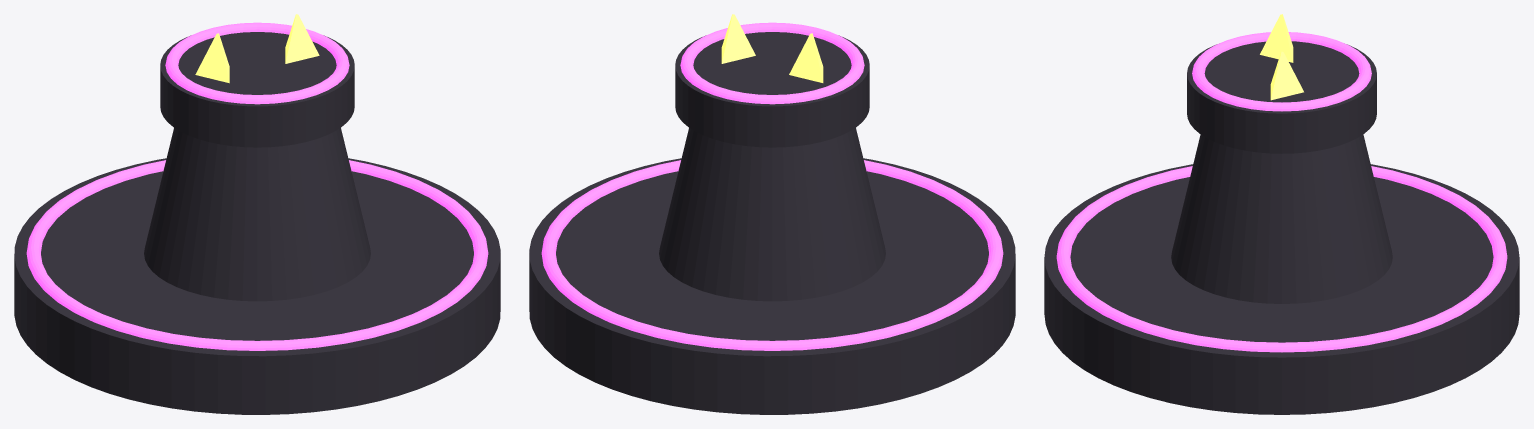
File: rebatedor_kiara_p1.glb
3 views of the same model, side by side, from view 1: azimuth 30°, elevation 25°; view 2: azimuth 150°, elevation 25°; view 3: azimuth 270°, elevation 25° (orthographic). The views are drawn at different scales.
Visible parts, largest first — view 1: rebatedor_kiara_p1_Base, rebatedor_kiara_p1_Handle, rebatedor_kiara_p1_GripCap, rebatedor_kiara_p1_BaseHalo, rebatedor_kiara_p1_GripRing, rebatedor_kiara_p1_Ear_L, rebatedor_kiara_p1_Ear_R; view 2: rebatedor_kiara_p1_Base, rebatedor_kiara_p1_Handle, rebatedor_kiara_p1_GripCap, rebatedor_kiara_p1_BaseHalo, rebatedor_kiara_p1_GripRing, rebatedor_kiara_p1_Ear_L, rebatedor_kiara_p1_Ear_R; view 3: rebatedor_kiara_p1_Base, rebatedor_kiara_p1_Handle, rebatedor_kiara_p1_GripCap, rebatedor_kiara_p1_BaseHalo, rebatedor_kiara_p1_GripRing, rebatedor_kiara_p1_Ear_R, rebatedor_kiara_p1_Ear_L.
Part boxes in pixels (<box>): rebatedor_kiara_p1_Base: <box>14,158,500,414</box>; rebatedor_kiara_p1_Handle: <box>144,128,370,301</box>; rebatedor_kiara_p1_GripCap: <box>160,32,354,147</box>; rebatedor_kiara_p1_BaseHalo: <box>26,160,488,350</box>; rebatedor_kiara_p1_GripRing: <box>165,22,349,104</box>; rebatedor_kiara_p1_Ear_L: <box>195,33,229,83</box>; rebatedor_kiara_p1_Ear_R: <box>285,14,319,63</box>; rebatedor_kiara_p1_Base: <box>529,158,1015,414</box>; rebatedor_kiara_p1_Handle: <box>659,128,885,301</box>; rebatedor_kiara_p1_GripCap: <box>675,32,869,147</box>; rebatedor_kiara_p1_BaseHalo: <box>541,160,1003,350</box>; rebatedor_kiara_p1_GripRing: <box>680,22,864,104</box>; rebatedor_kiara_p1_Ear_L: <box>789,33,823,82</box>; rebatedor_kiara_p1_Ear_R: <box>721,14,755,63</box>; rebatedor_kiara_p1_Base: <box>1044,164,1519,414</box>; rebatedor_kiara_p1_Handle: <box>1171,134,1392,303</box>; rebatedor_kiara_p1_GripCap: <box>1187,41,1376,153</box>; rebatedor_kiara_p1_BaseHalo: <box>1056,166,1507,352</box>; rebatedor_kiara_p1_GripRing: <box>1192,32,1371,111</box>; rebatedor_kiara_p1_Ear_R: <box>1270,51,1303,100</box>; rebatedor_kiara_p1_Ear_L: <box>1260,14,1293,62</box>.
Size of the model in its own units: 0.15 by 0.098 by 0.15.
